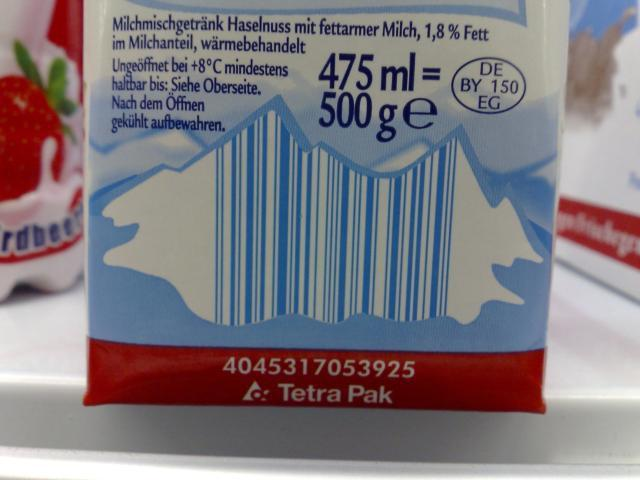Barcode: (202, 109, 462, 383)
